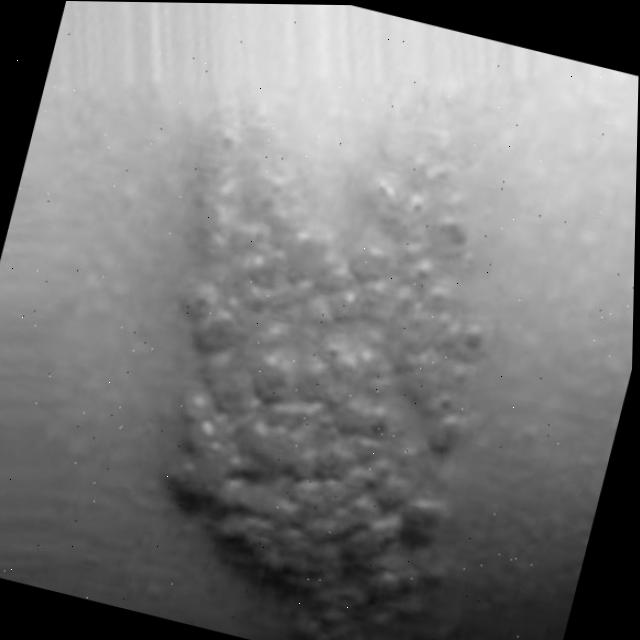Shingles: (85, 107, 559, 640)
